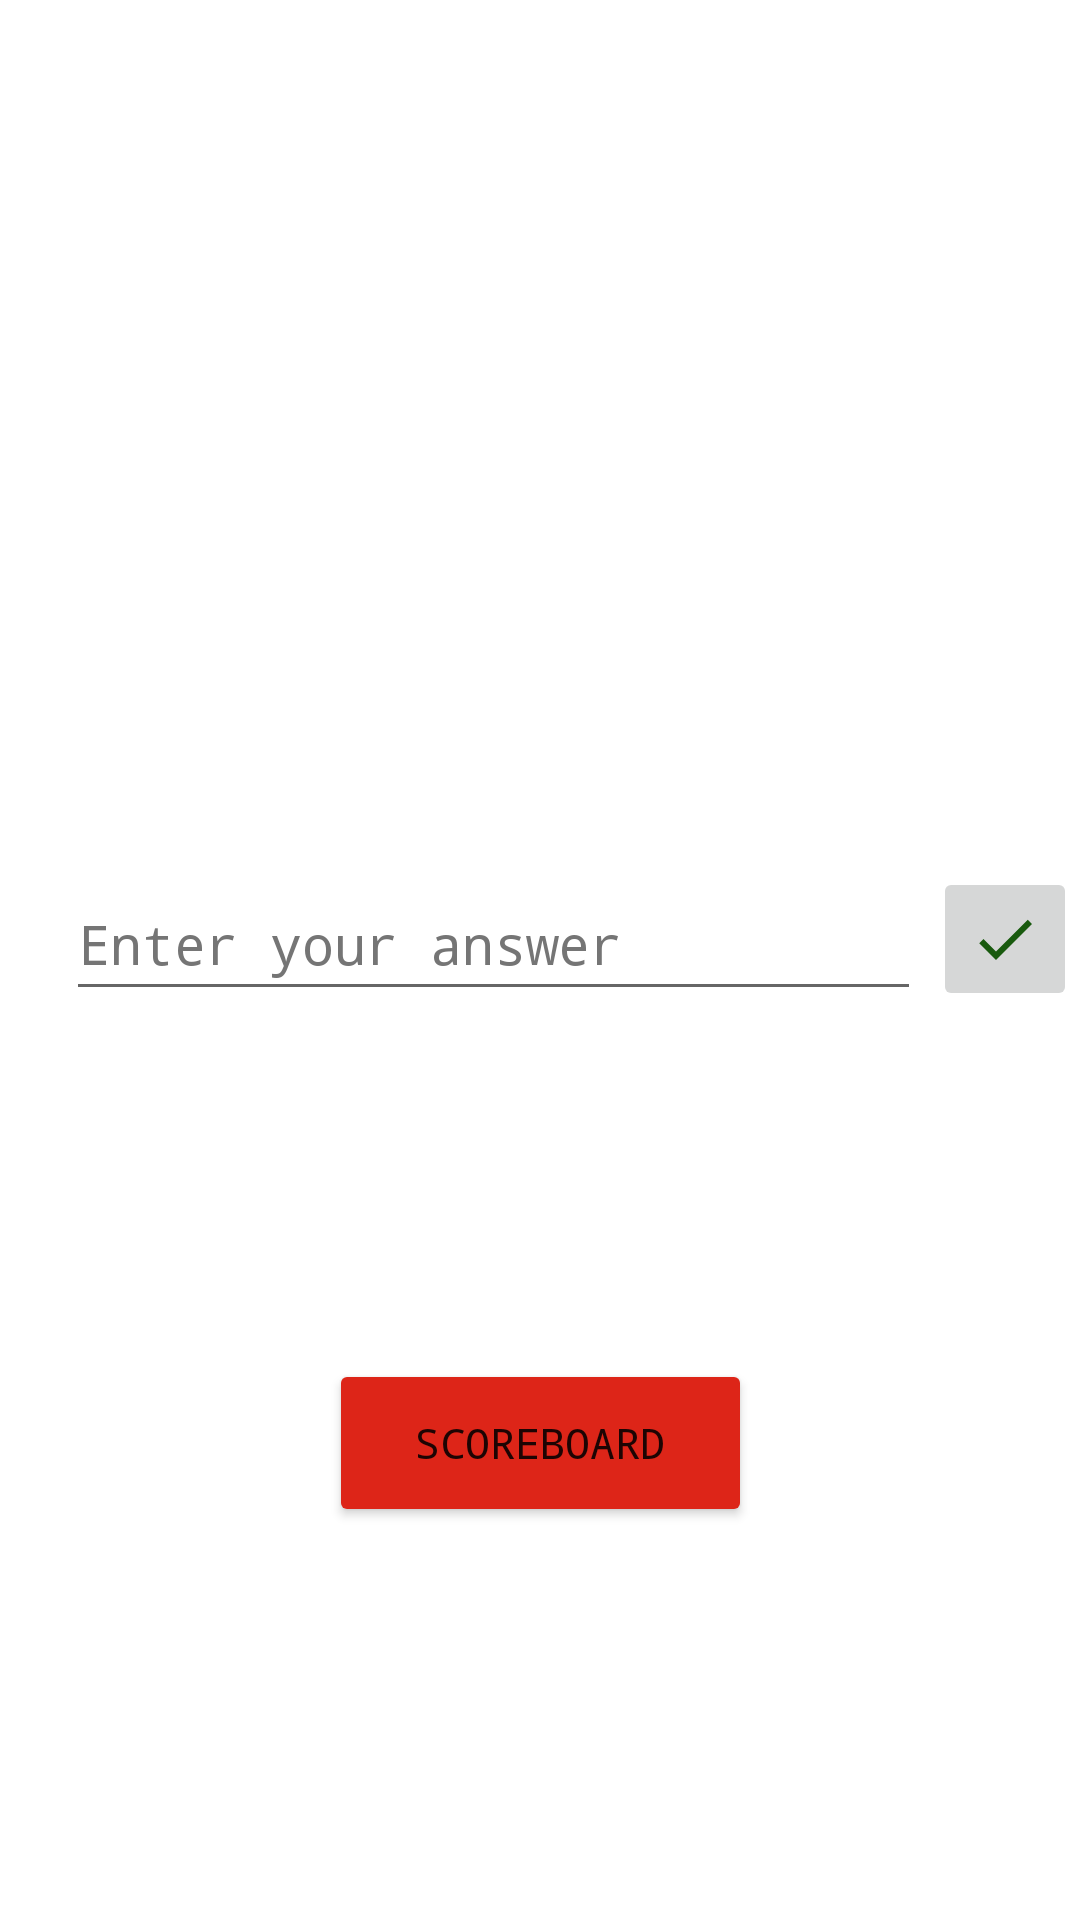

Locate icon controls on the screen. Image size 1080 x 1920, boxes as (x1=x1, y1=y1, x2=x2, y2=y2).
Check image button: (x1=945, y1=885, x2=1065, y2=993)
